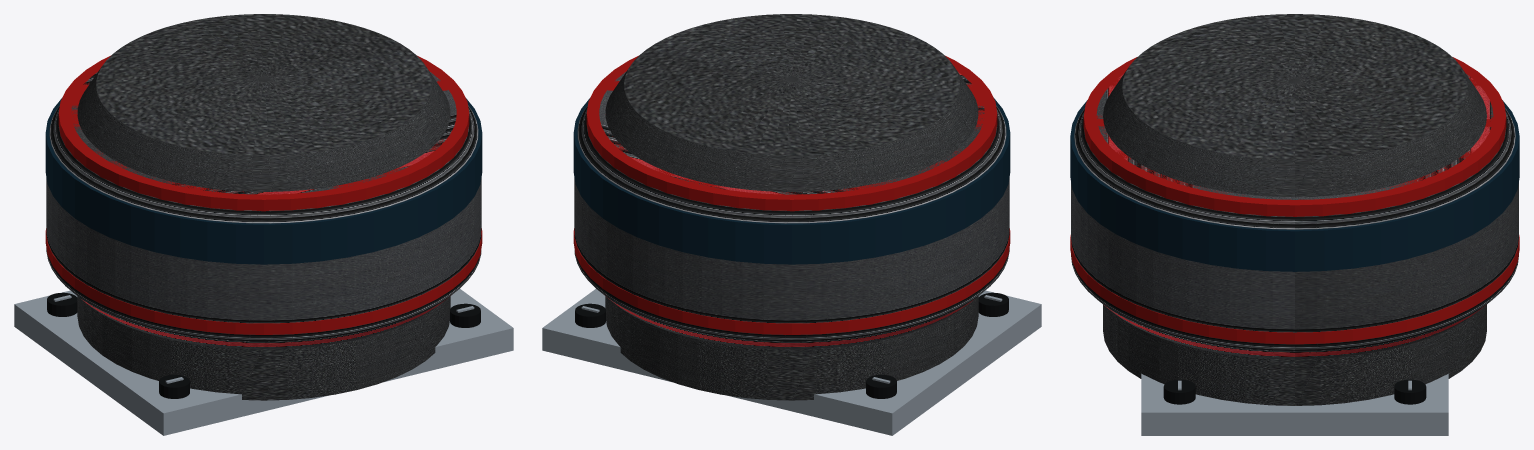
The model's file is lidar_link.dae.
3 renders of one model, left to right at view 1: azimuth 30°, elevation 25°; view 2: azimuth 150°, elevation 25°; view 3: azimuth 270°, elevation 25°, orthographic. The views are drawn at different scales.
Parts seen in each view (by area): view 1: lidar_link_black, lidar_link_lidar, lidar_link_glass, lidar_link_red, lidar_link_metal, lidar_link_chip; view 2: lidar_link_black, lidar_link_lidar, lidar_link_glass, lidar_link_red, lidar_link_metal, lidar_link_chip; view 3: lidar_link_black, lidar_link_lidar, lidar_link_glass, lidar_link_red, lidar_link_metal, lidar_link_chip.
Part boxes in pixels (x1,y1,x2,y2): lidar_link_black: [77, 14, 450, 400]; lidar_link_lidar: [46, 71, 481, 349]; lidar_link_glass: [45, 97, 482, 264]; lidar_link_red: [45, 55, 482, 334]; lidar_link_metal: [14, 289, 513, 435]; lidar_link_chip: [47, 292, 480, 398]; lidar_link_black: [605, 14, 978, 400]; lidar_link_lidar: [574, 71, 1009, 349]; lidar_link_glass: [573, 97, 1010, 264]; lidar_link_red: [573, 55, 1010, 334]; lidar_link_metal: [542, 289, 1041, 435]; lidar_link_chip: [575, 292, 1008, 398]; lidar_link_black: [1103, 14, 1486, 405]; lidar_link_lidar: [1071, 74, 1518, 359]; lidar_link_glass: [1070, 100, 1519, 271]; lidar_link_red: [1070, 57, 1519, 344]; lidar_link_metal: [1141, 373, 1448, 435]; lidar_link_chip: [1163, 379, 1426, 404].
Size of the model in its own units: 0.0702 by 0.0702 by 0.046.
Materials: 6 (2 with a texture image).
